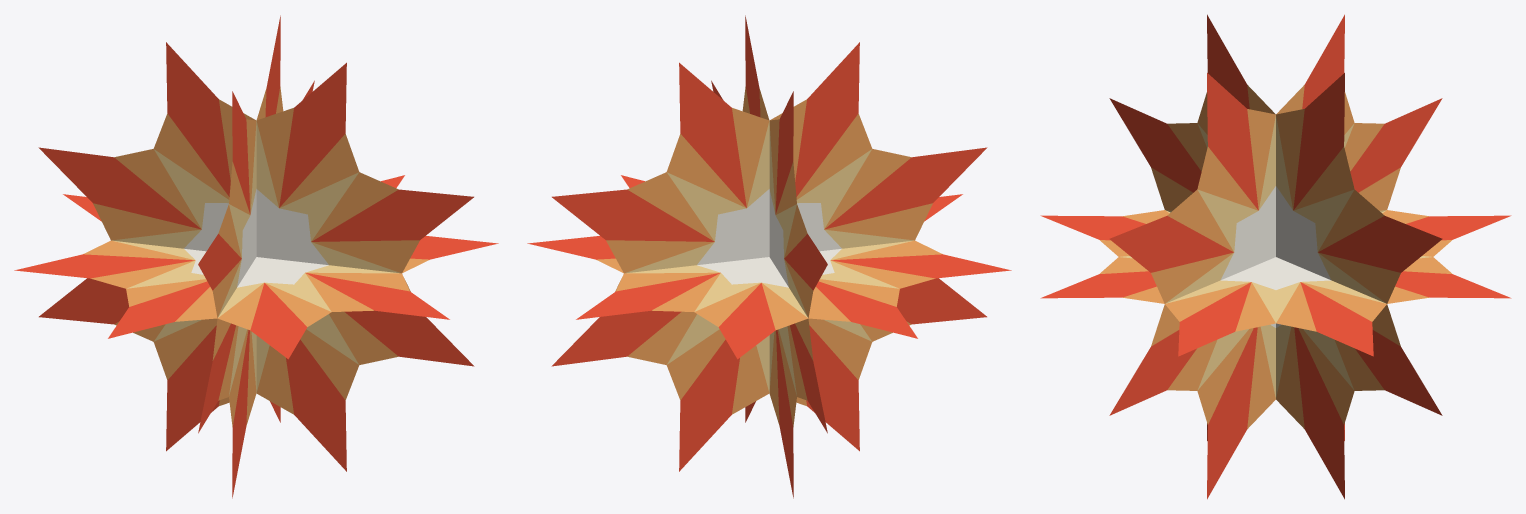
Rendered from pang.fbx.
3 renders of one model, left to right at view 1: azimuth 30°, elevation 25°; view 2: azimuth 150°, elevation 25°; view 3: azimuth 270°, elevation 25°, orthographic. The views are drawn at different scales.
Parts seen in each view (by area): view 1: circle_selection_1, circle_selection_2, circle_selection; view 2: circle_selection, circle_selection_2, circle_selection_1; view 3: circle_selection, circle_selection_1, circle_selection_2.
Boxes of the visible parts, bbox=[...] form: circle_selection_1: bbox=[38, 42, 474, 471]; circle_selection_2: bbox=[14, 175, 498, 359]; circle_selection: bbox=[198, 15, 314, 498]; circle_selection: bbox=[551, 42, 987, 471]; circle_selection_2: bbox=[527, 175, 1011, 359]; circle_selection_1: bbox=[711, 15, 827, 498]; circle_selection: bbox=[1109, 14, 1442, 499]; circle_selection_1: bbox=[1109, 14, 1442, 499]; circle_selection_2: bbox=[1040, 210, 1511, 356].
Size of the model in its own units: 150 by 150 by 150.
1 material, 1 textured.
